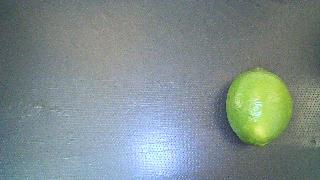EXPORTACION: (226, 68, 292, 147)
